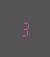three: (19, 19, 28, 37)
